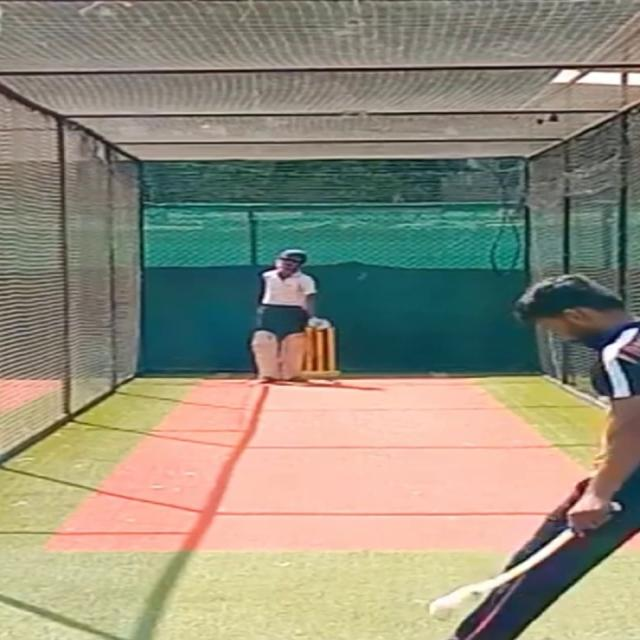stump: (304, 324, 340, 380)
